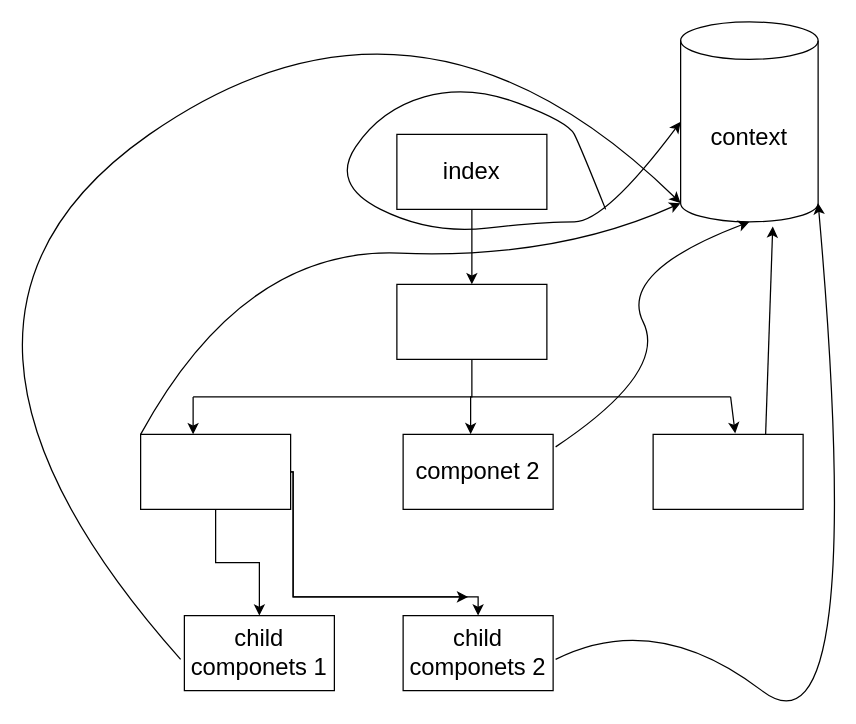
Image size: 856x724. Some labels were removed from this diagram. Here are the shapes that lost their labels. From the top down, the box of each, then its label:
(396, 283, 547, 359): App
(139, 433, 291, 509): componet 1
(652, 433, 803, 509): componet 3
